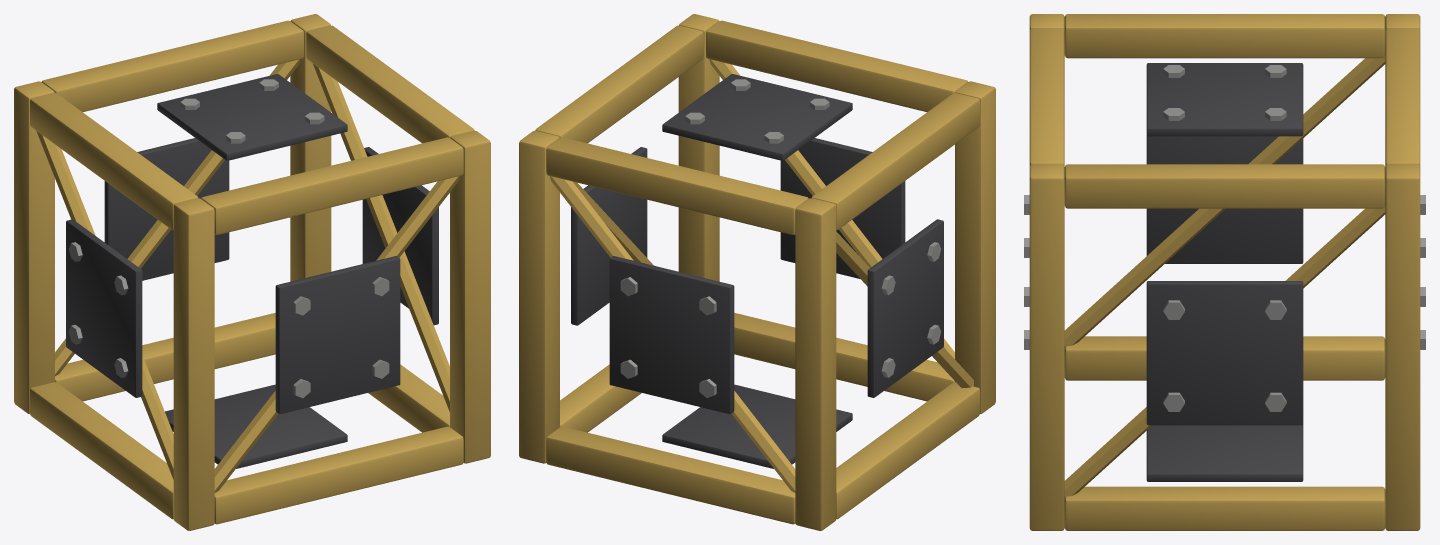
The model's file is frame.glb.
The picture shows the model from 3 angles, left to right: view 1: azimuth 30°, elevation 25°; view 2: azimuth 150°, elevation 25°; view 3: azimuth 270°, elevation 25°; orthographic projection. The views are drawn at different scales.
Parts seen in each view (by area): view 1: Part; view 2: Part; view 3: Part.
Part boxes in pixels (box(x1,y1,x2,y2)): Part: box(14, 14, 490, 530); Part: box(519, 14, 995, 530); Part: box(1024, 14, 1425, 530).
Size of the model in its own units: 0.514 by 0.514 by 0.514.
